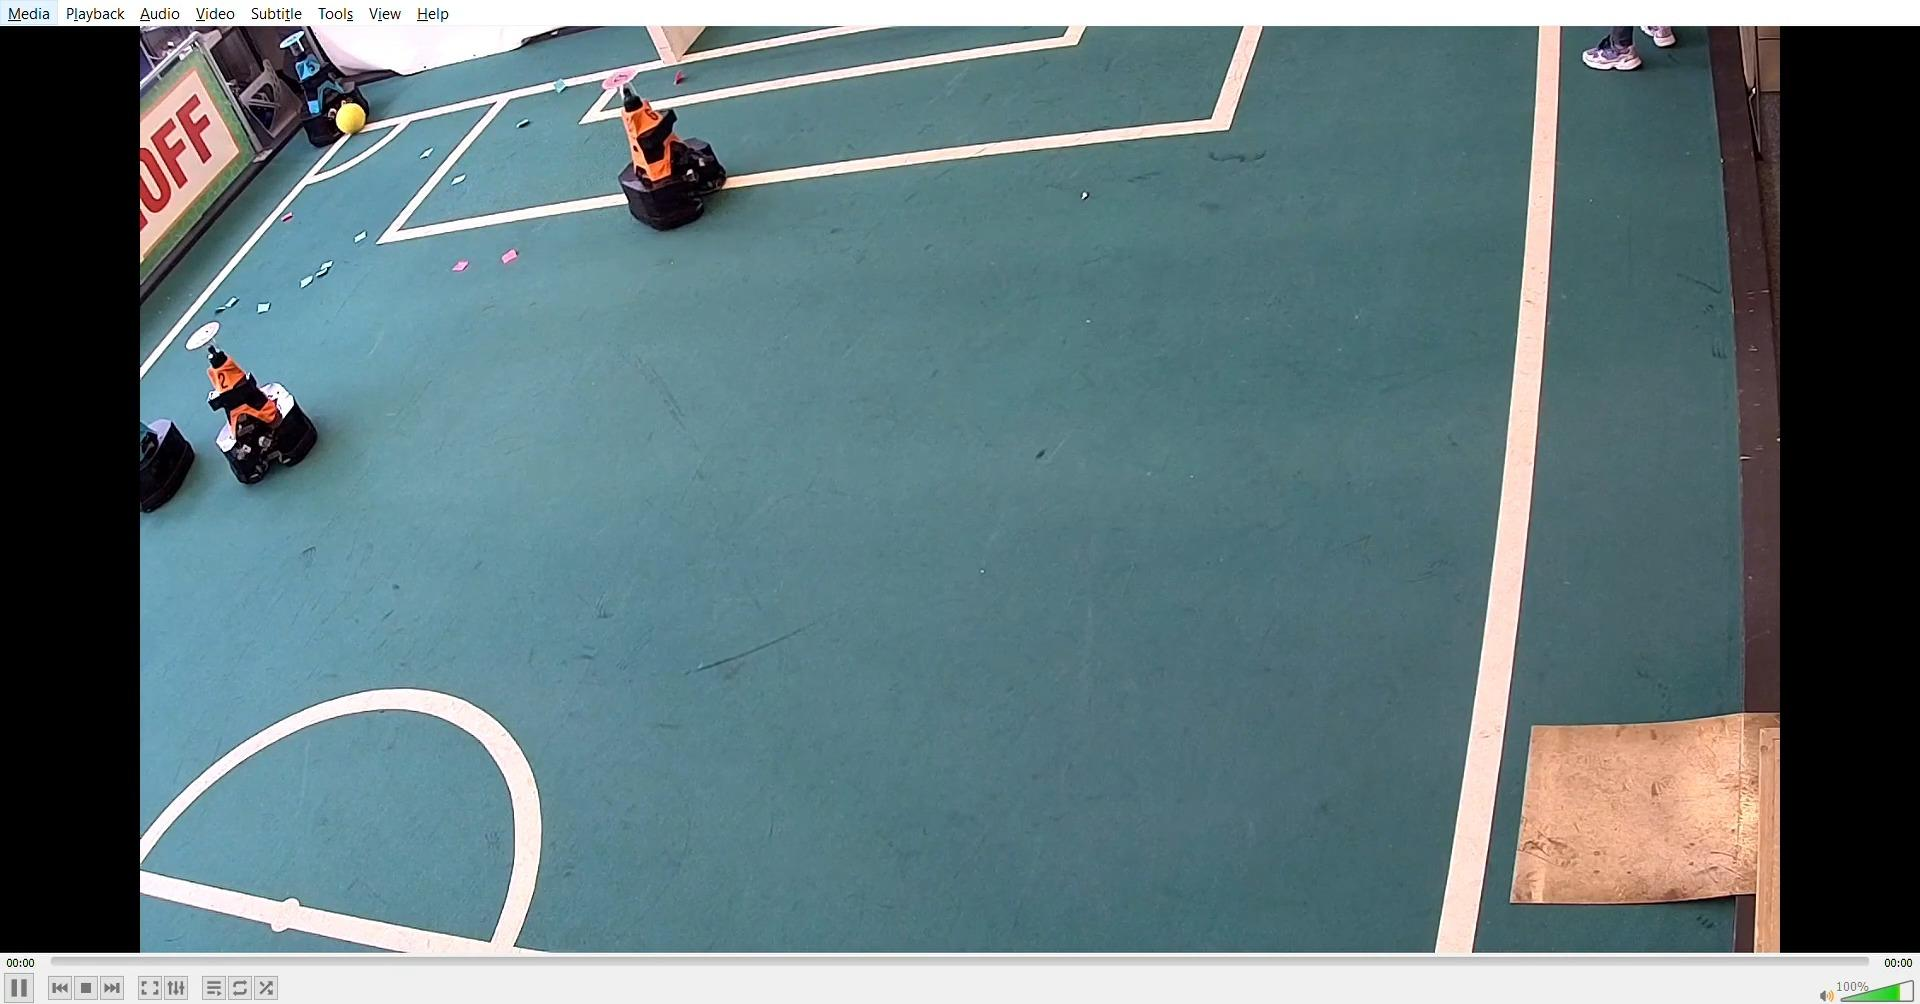Ball: (326, 100, 370, 133)
Team_Blue: (274, 25, 380, 146)
Team_Red: (597, 60, 731, 235), (185, 322, 319, 482)
